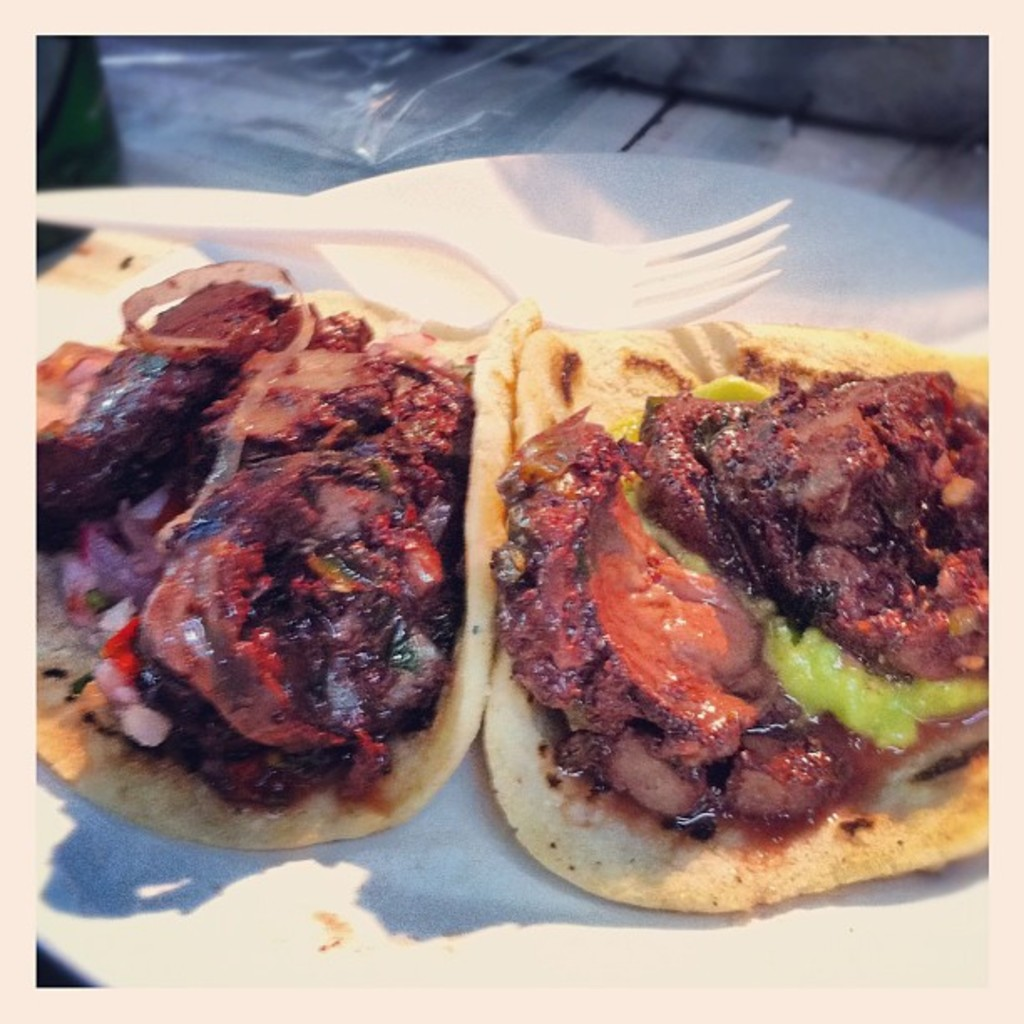sandwich: (37, 261, 550, 852), (485, 326, 992, 915)
